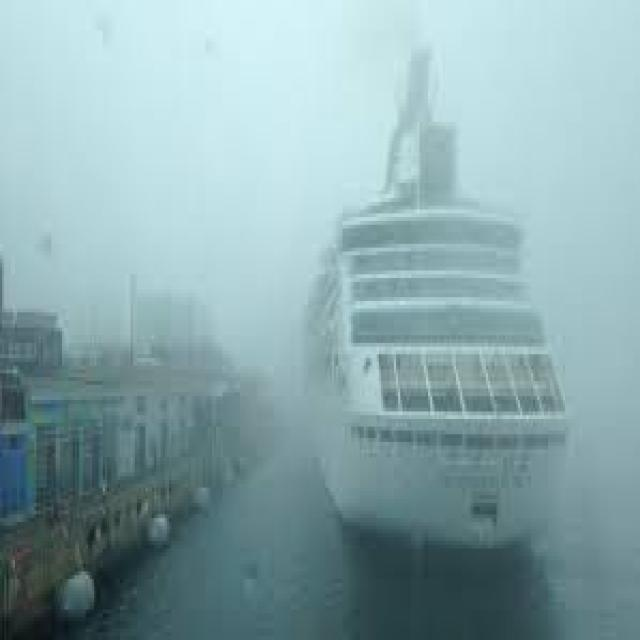passenger ship: (294, 118, 570, 553)
